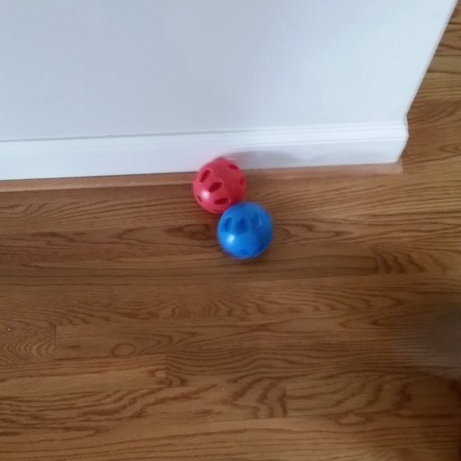ball: (214, 199, 277, 262), (191, 156, 251, 214)
